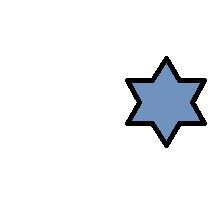star: (124, 55, 208, 149)
